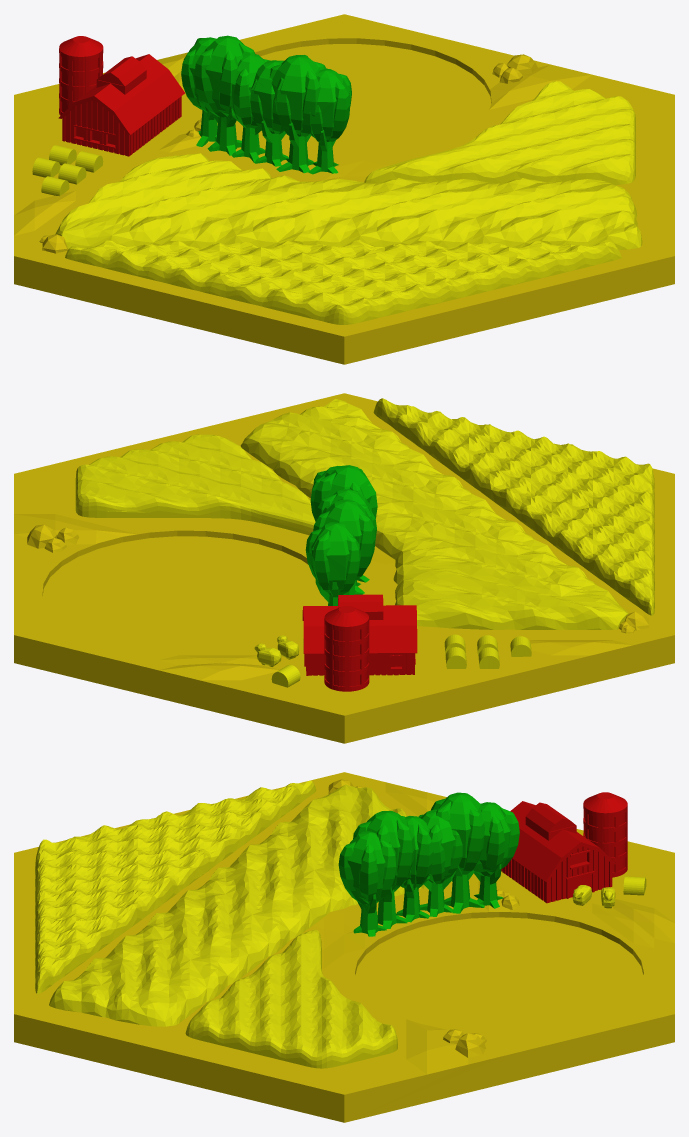
File: wheet.glb
3 renders of one model, top to bottom at view 1: azimuth 30°, elevation 25°; view 2: azimuth 150°, elevation 25°; view 3: azimuth 270°, elevation 25°, orthographic.
Parts seen in each view (by area): view 1: wheet; view 2: wheet; view 3: wheet.
Part boxes in pixels (left/top/right/bottom): wheet: left=14, top=14, right=674, bottom=364; wheet: left=14, top=393, right=674, bottom=743; wheet: left=14, top=772, right=674, bottom=1122.
Bounding box in the file's own units: 74 × 14.73 × 64.07.
